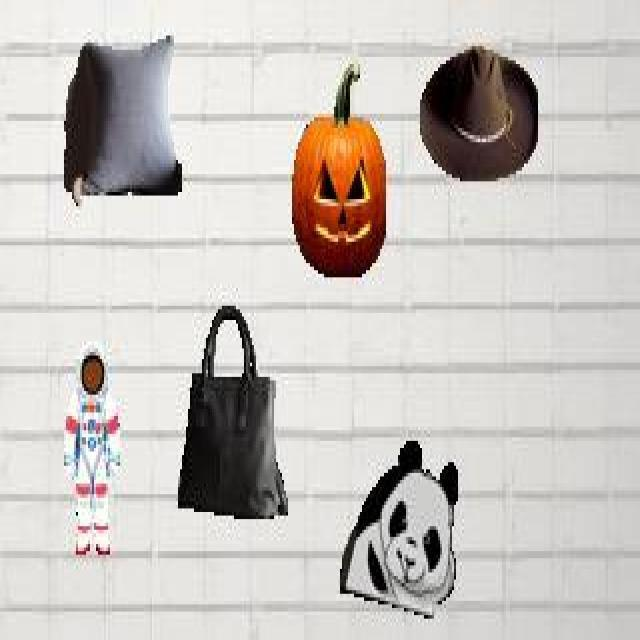Other Objects: (177, 304, 289, 522), (63, 36, 184, 205), (421, 45, 538, 183), (61, 341, 122, 554)
